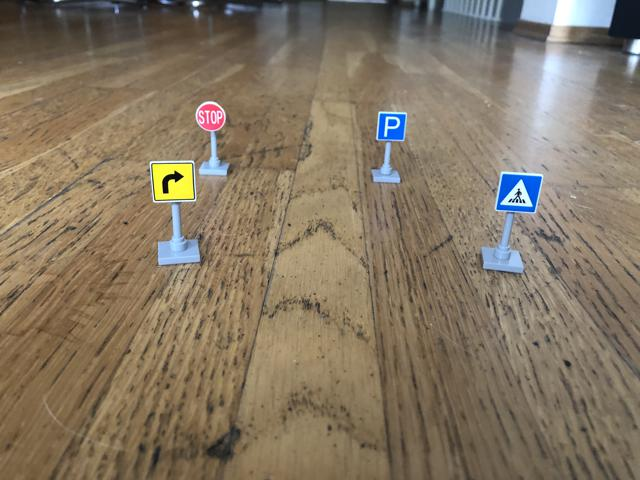fahrtrichtung rechts: (149, 159, 201, 206)
fußgängerüberweg: (493, 169, 544, 214)
parken: (375, 110, 409, 141)
stop: (194, 100, 231, 131)
